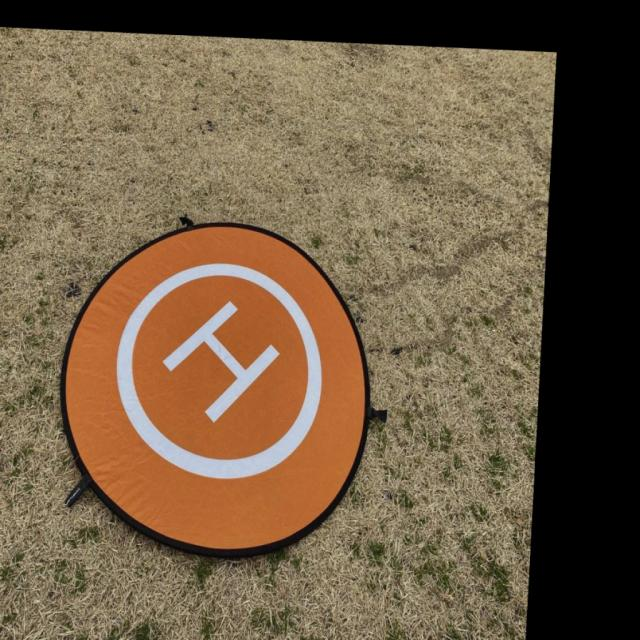helipad: (110, 258, 326, 485)
